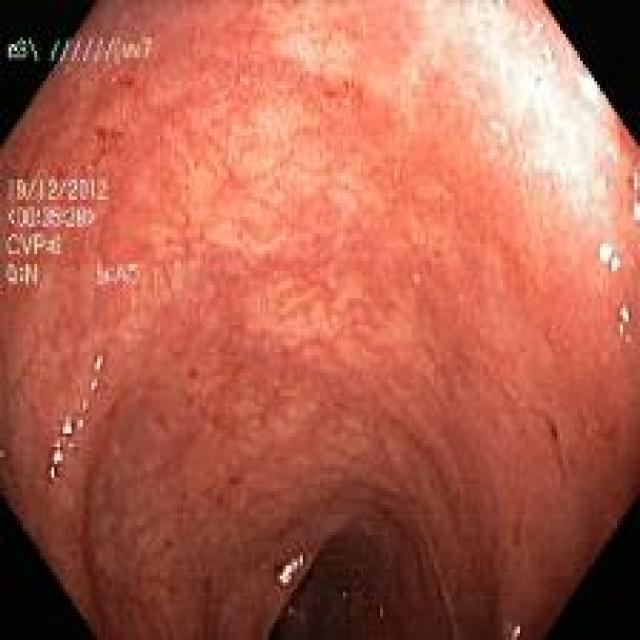ulcerative-colitis-grade-1: (0, 3, 640, 640)
